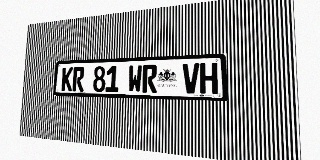1: (105, 66, 119, 92)
8: (93, 66, 106, 92)
H: (200, 63, 218, 94)
K: (61, 67, 73, 91)
R: (142, 64, 157, 93), (72, 67, 85, 92)
V: (183, 63, 199, 94)
W: (128, 65, 142, 93)
